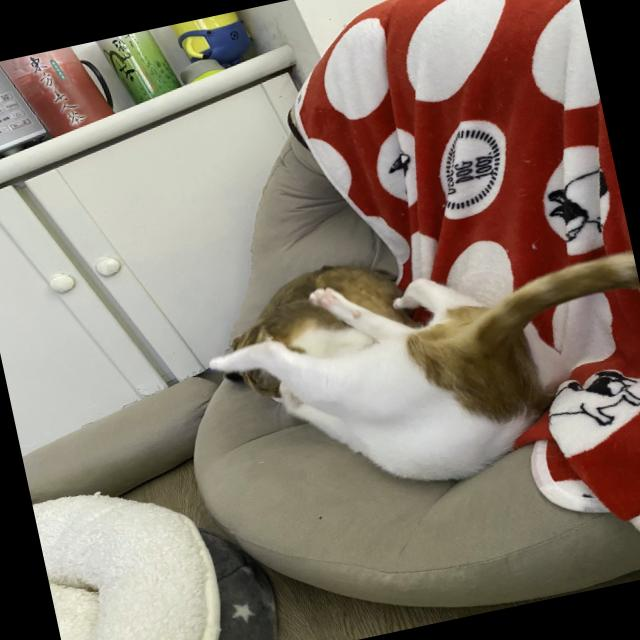cat1: (206, 225, 640, 525)
cat2: (190, 246, 423, 418)
